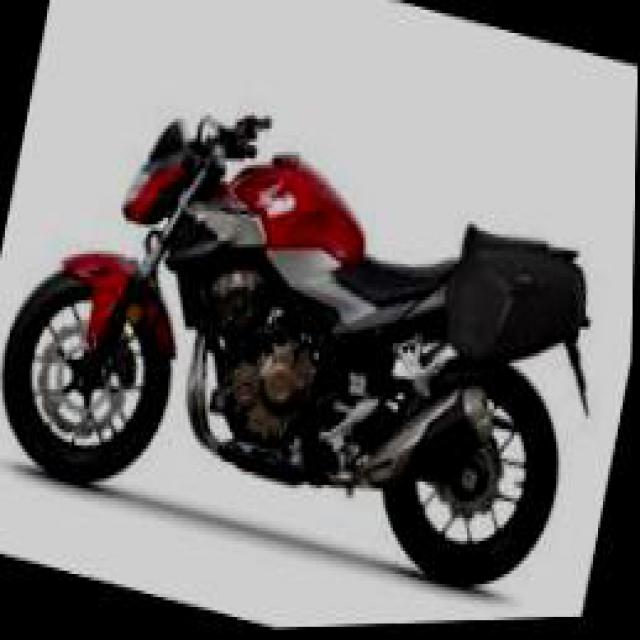CB500F: (0, 53, 613, 627)
